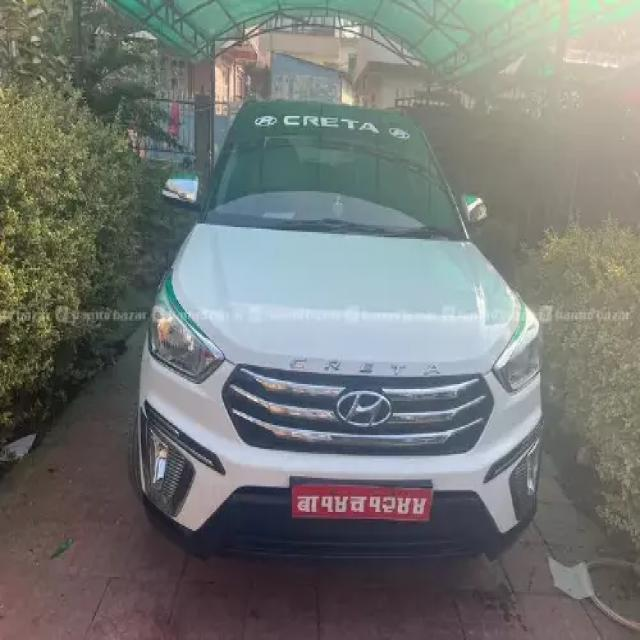License-plate: (287, 474, 435, 526)
